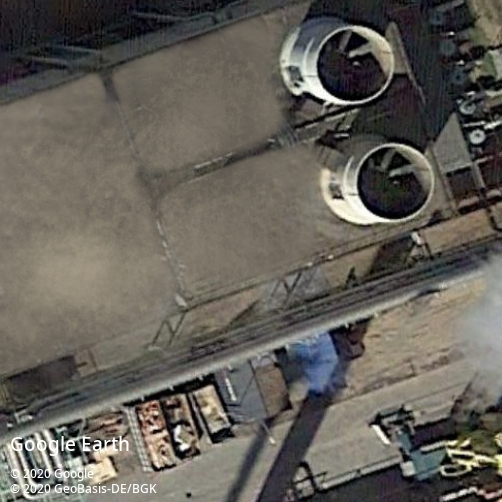Vent: (314, 25, 395, 105), (355, 142, 434, 223)
